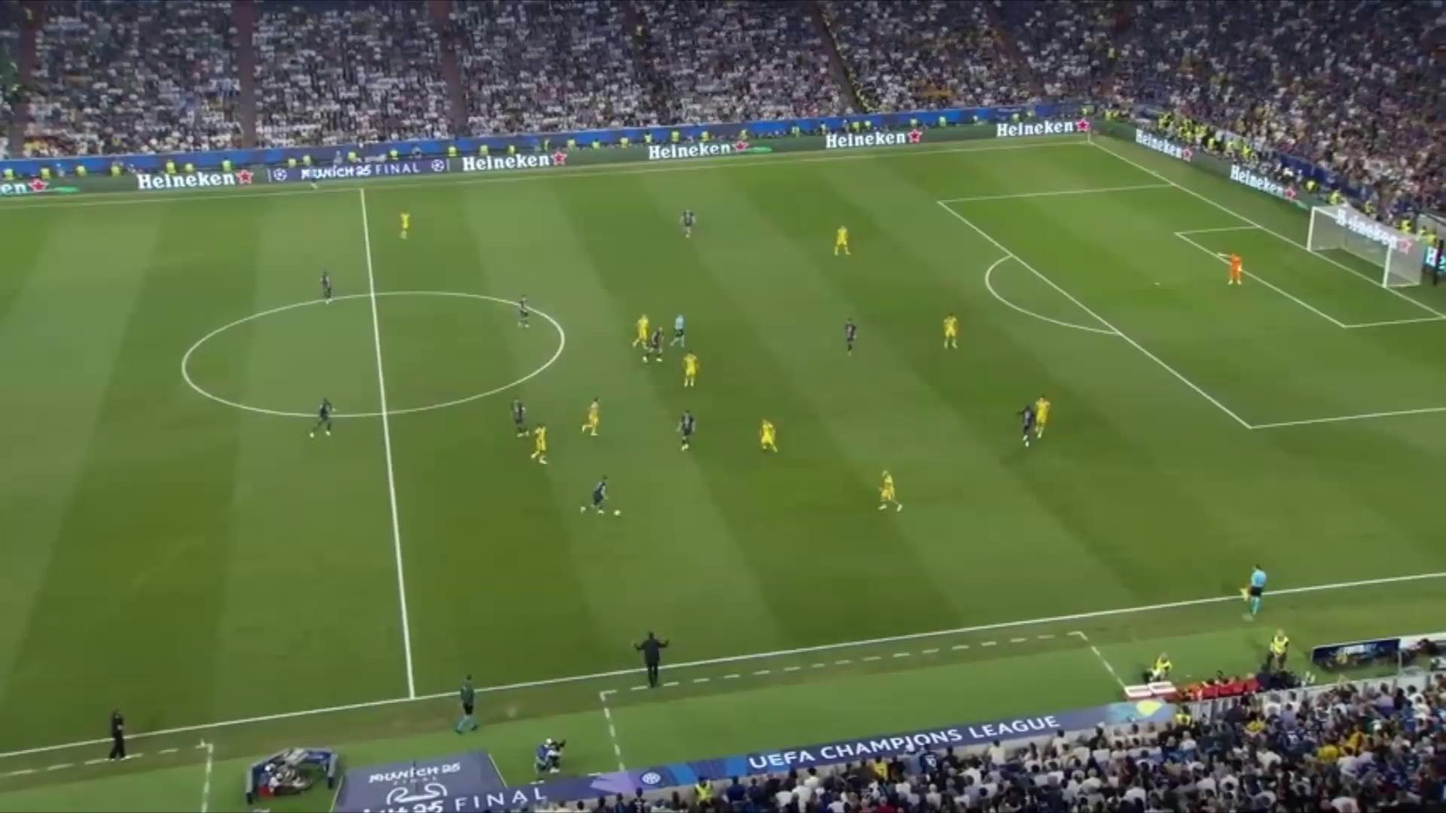ball: (609, 507, 627, 517)
player_A: (1013, 395, 1037, 456), (581, 473, 612, 516), (838, 311, 865, 359), (311, 393, 335, 441), (507, 394, 531, 441), (513, 289, 538, 331), (675, 409, 699, 450), (315, 263, 338, 302), (679, 203, 699, 241), (650, 324, 669, 364)
player_B: (869, 465, 908, 515), (1031, 389, 1059, 443), (936, 309, 969, 354), (752, 415, 784, 458), (577, 396, 606, 441), (675, 350, 707, 390), (828, 216, 855, 260), (628, 309, 654, 351), (527, 422, 551, 464), (394, 206, 419, 244)
player_B_goal_keeper: (1214, 248, 1253, 290)
referee: (452, 671, 489, 739), (1239, 565, 1273, 620), (665, 309, 696, 351), (301, 161, 319, 186)
